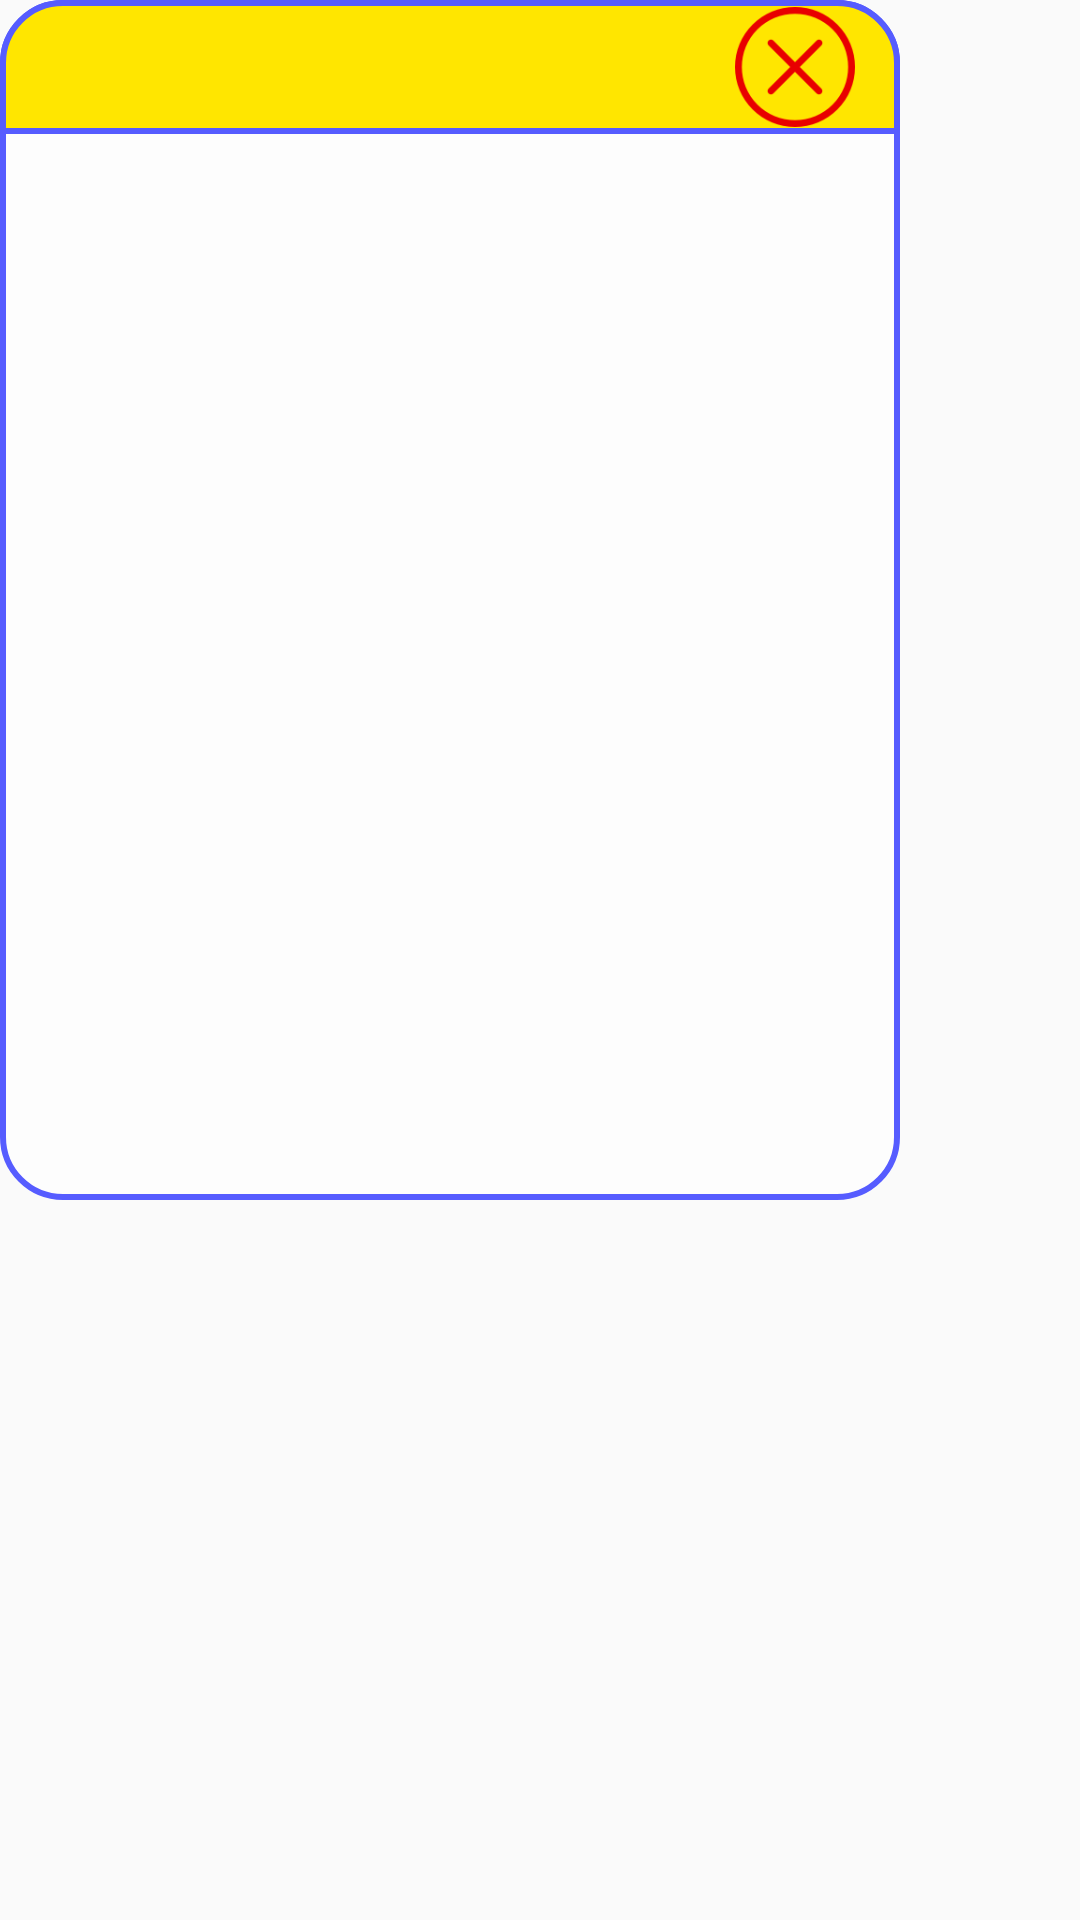

Icons on this 1080x1920 Android screen, each with the point to tap as point (x, y):
error: point (795, 67)
